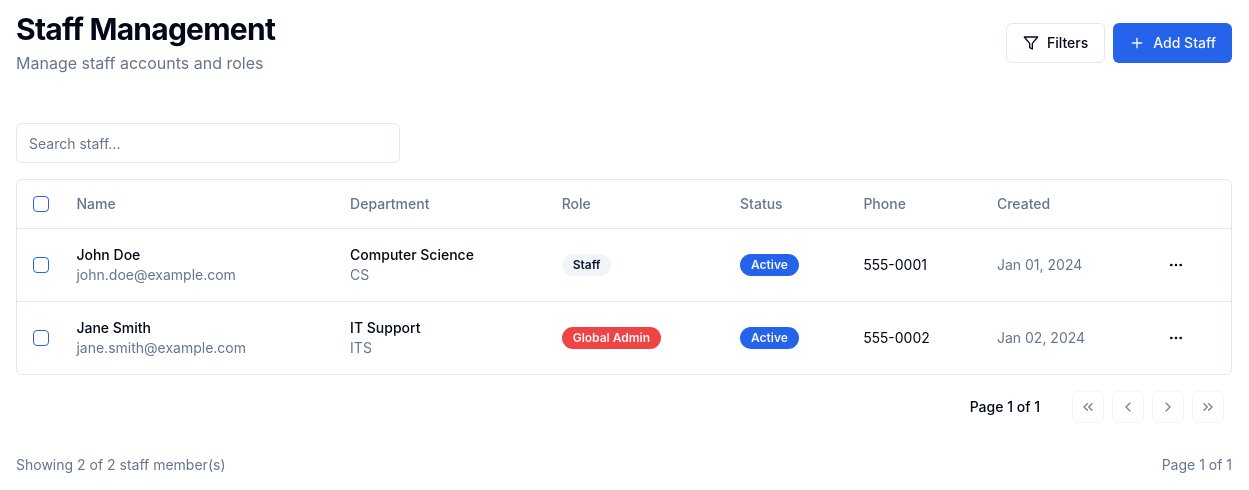
Test case: StaffManagementPage › CRUD Operations › should open edit dialog when Edit button is clicked
This screenshot has width=1249, height=490.
Expected: the text "john.doe@example.com" is shown, [76, 266, 236, 282]
What coordinates should you click on to do the following:
click the button named "open menu" in the row of "john.doe@example.com"
I would click on:
 (1176, 264)
Its box is [1160, 248, 1192, 280].
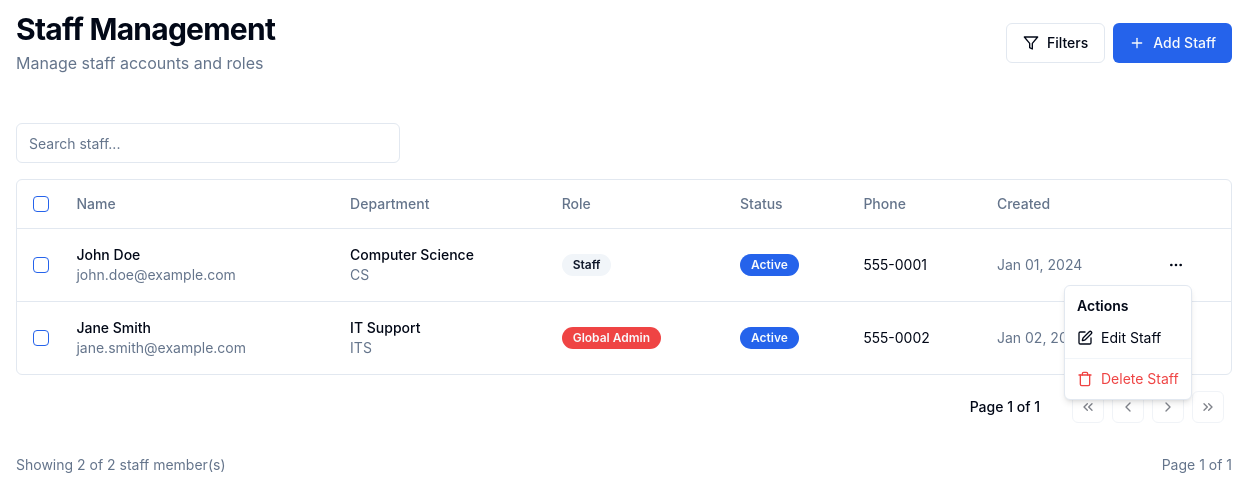
Now the menu item "Edit Staff" is shown, box [1077, 329, 1161, 346]
